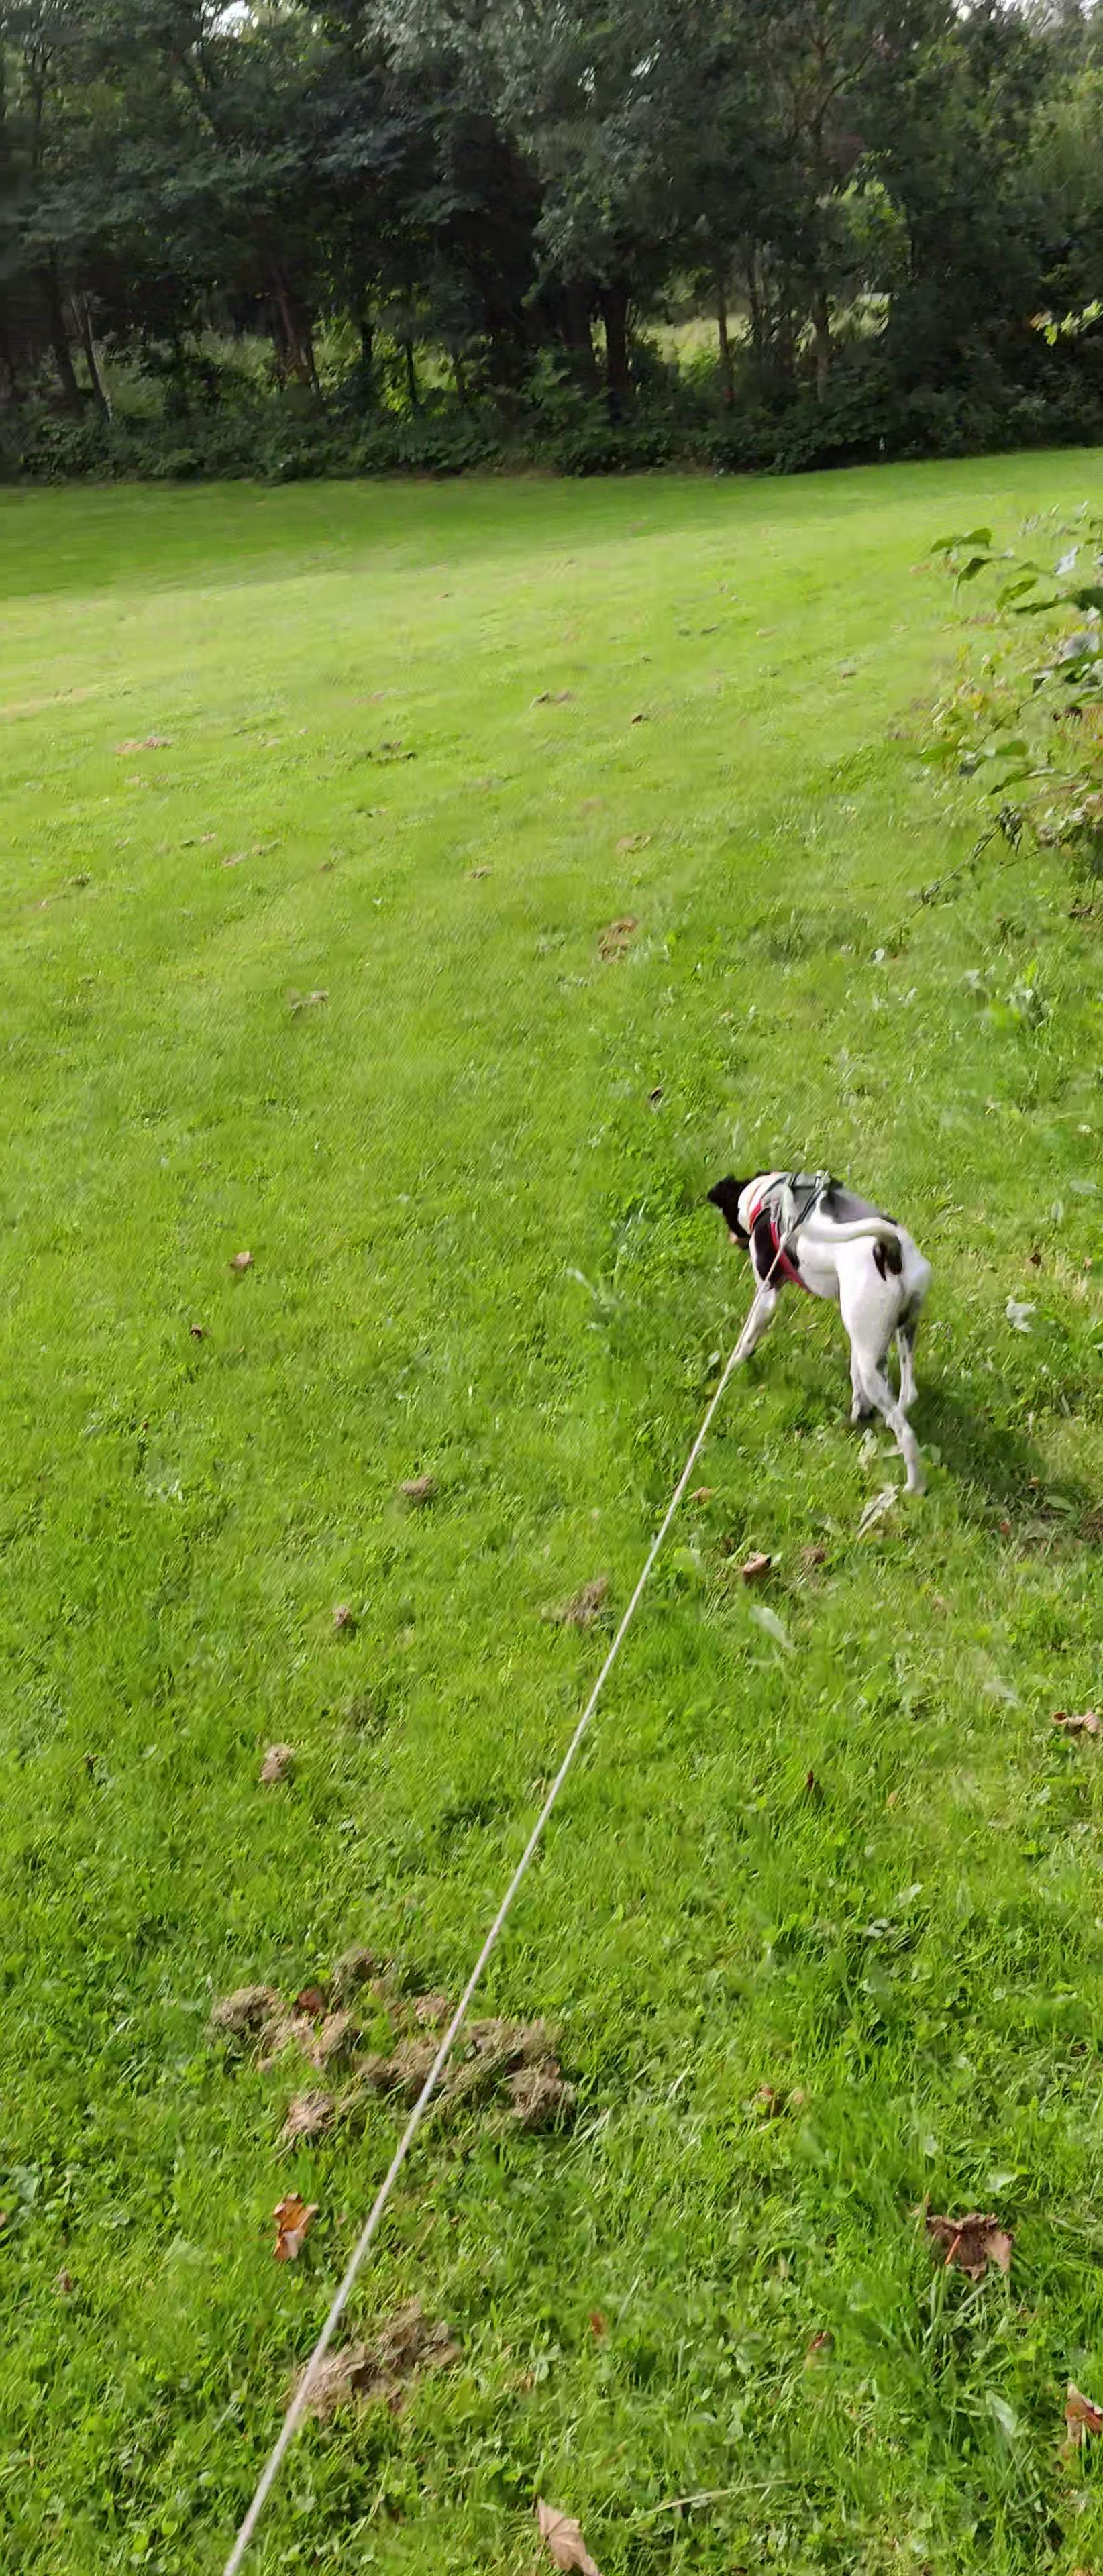Dog: (702, 1161, 939, 1500)
